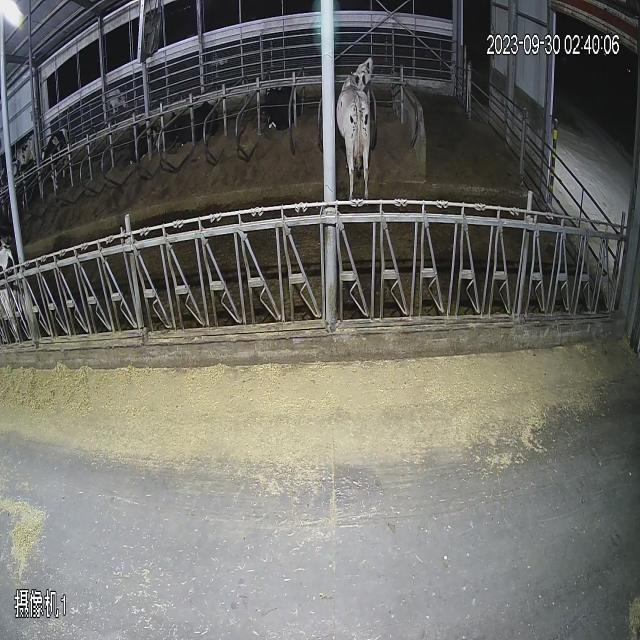lying down: (255, 68, 307, 164), (163, 90, 223, 148), (38, 126, 82, 176)
standing: (331, 38, 396, 205)
